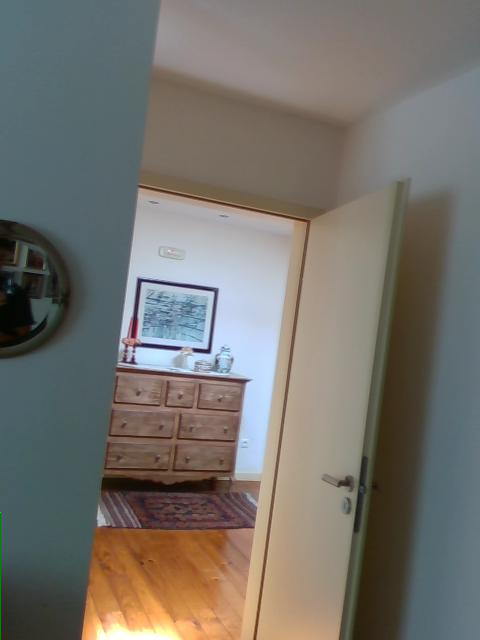open_door: (78, 180, 324, 639)
